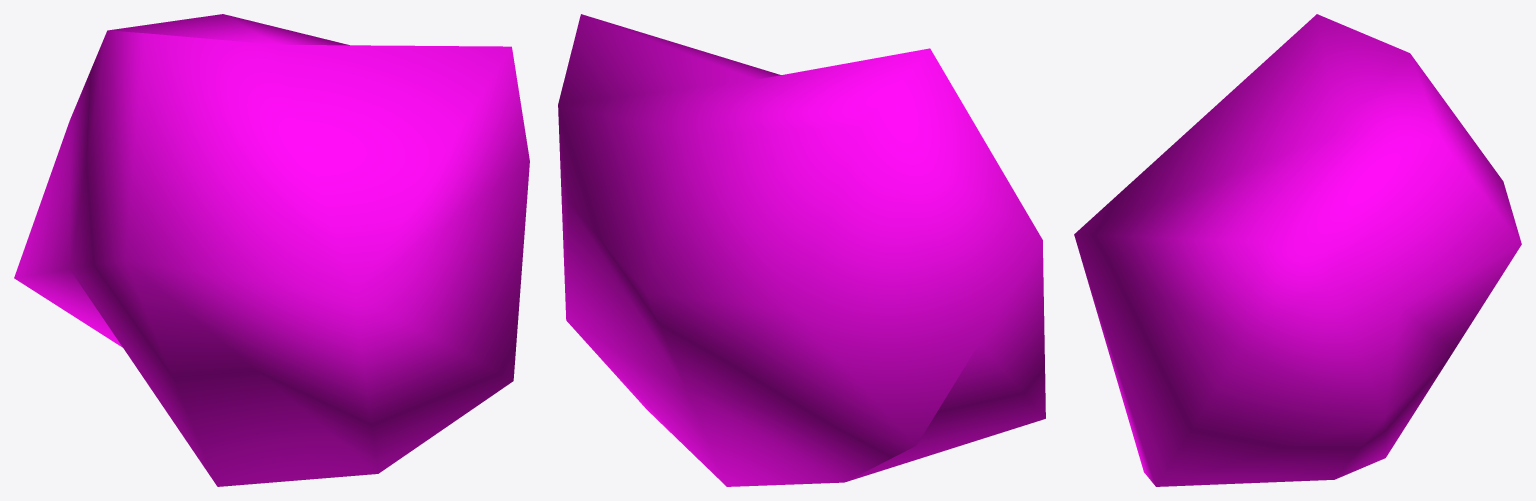
Rendered from salad_meshCollider.fbx.
3 renders of one model, left to right at view 1: azimuth 30°, elevation 25°; view 2: azimuth 150°, elevation 25°; view 3: azimuth 270°, elevation 25°, orthographic. The views are drawn at different scales.
Visible parts, largest first — view 1: foods_salad_meshCollider; view 2: foods_salad_meshCollider; view 3: foods_salad_meshCollider.
Boxes of the visible parts, box(x1,y1,x2,y2) form: foods_salad_meshCollider: box(14, 14, 529, 486); foods_salad_meshCollider: box(558, 14, 1045, 486); foods_salad_meshCollider: box(1074, 14, 1521, 486).
Bounding box in the file's own units: 16.57 × 16.01 × 16.6.
